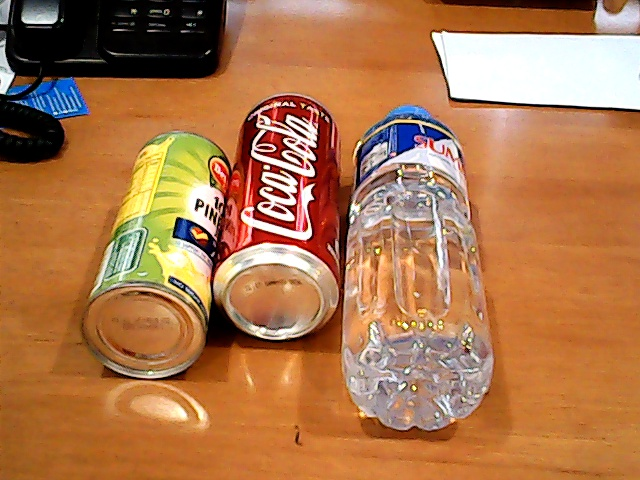Cola: (205, 85, 354, 352)
Pine Juice: (74, 122, 229, 380)
Summit Water: (336, 93, 512, 440)
